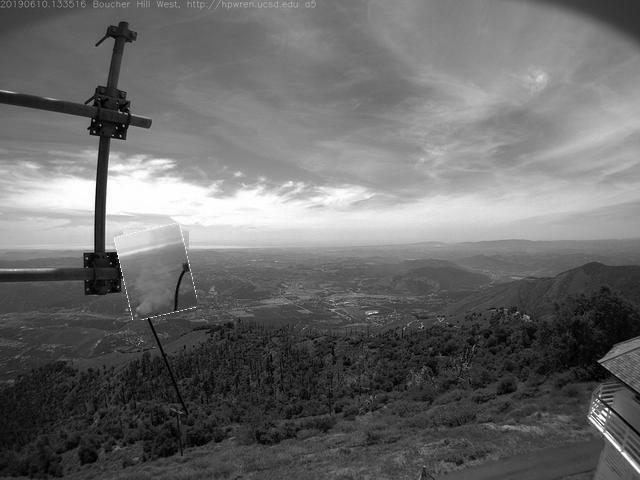smoke: (120, 227, 195, 319)
